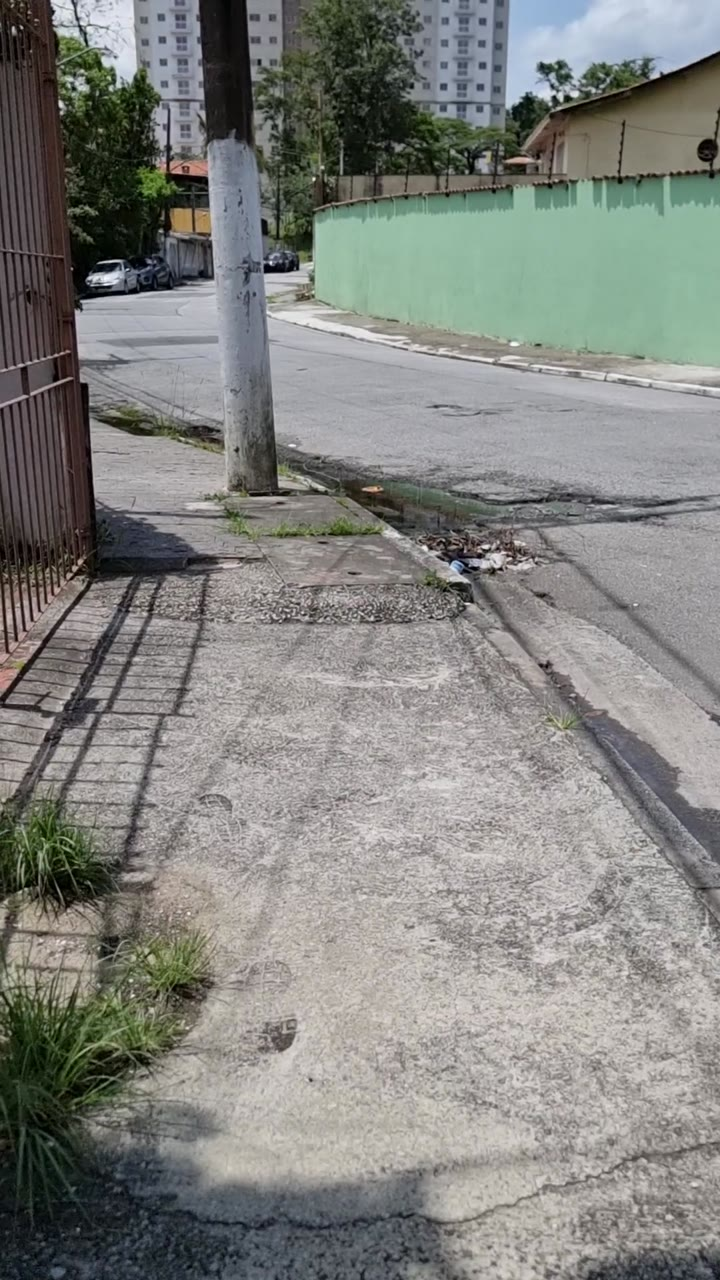desnivel: (180, 486, 540, 640)
obstaculo: (216, 0, 281, 499)
